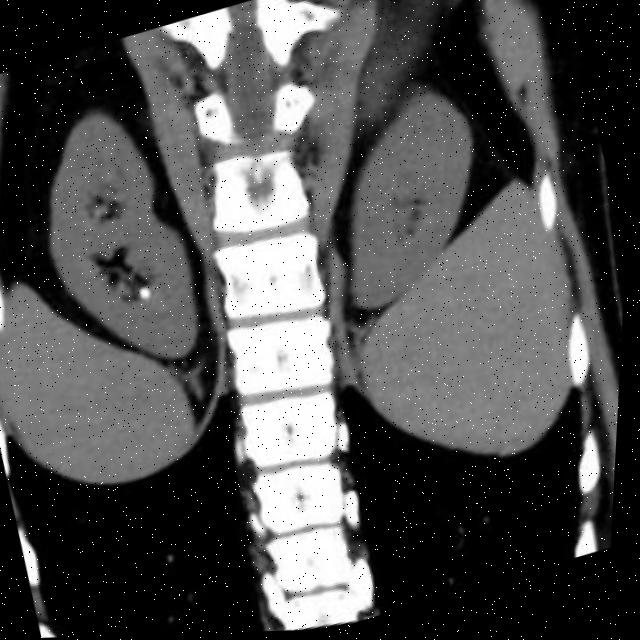Tas_Var: (139, 284, 159, 305)
